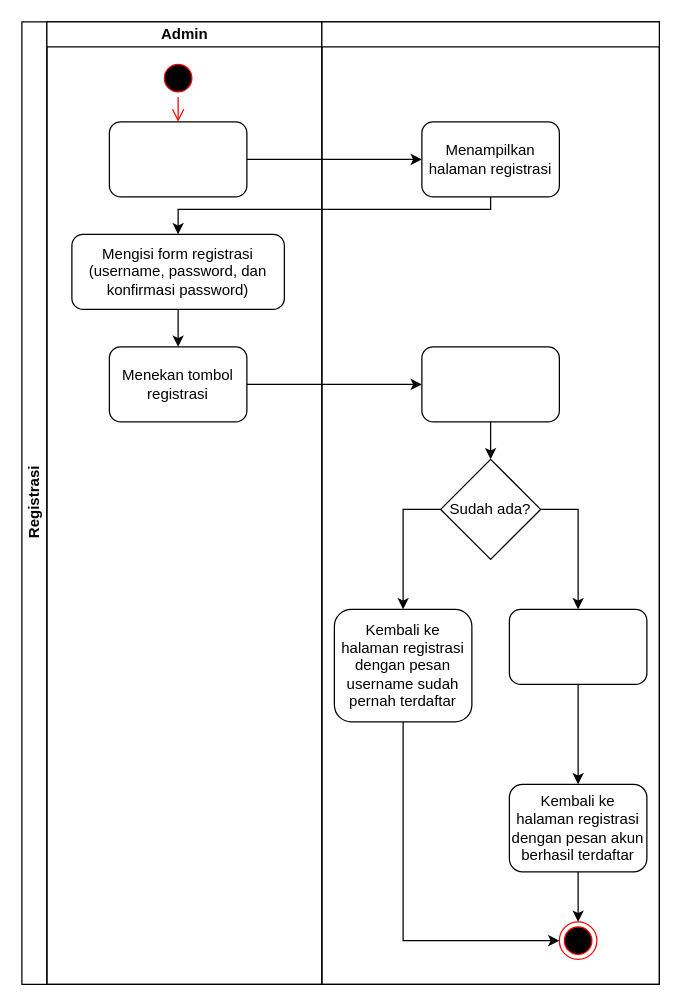
The diagram is 681 pixels wide and 1006 high, and some of its shapes have lost their labels. Here are the shapes that lost their labels. From the top down, the box of each, then its label:
(108, 121, 247, 197): Membuka halaman registrasi
(421, 346, 559, 422): Mengecek username
(321, 21, 659, 984): Sistem
(508, 608, 647, 684): Menambahkan akun baru
